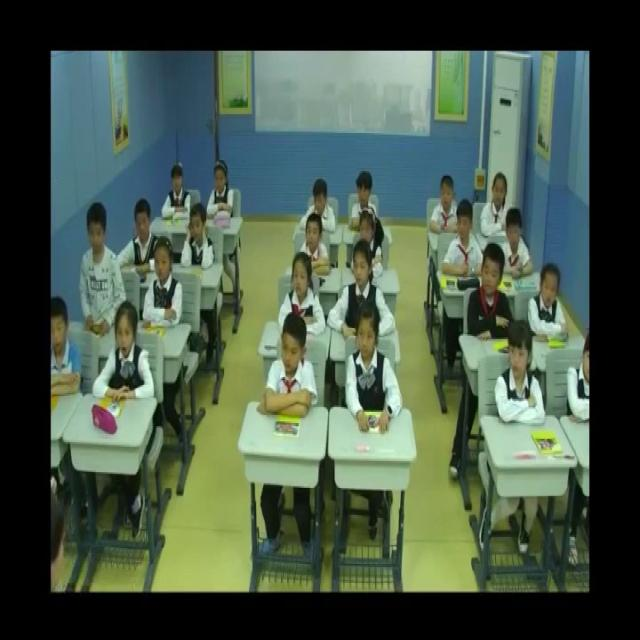focused: (344, 301, 404, 440), (328, 240, 398, 344), (91, 301, 156, 403), (258, 312, 317, 420), (79, 202, 125, 338), (495, 320, 549, 430), (466, 240, 517, 350), (278, 252, 330, 344), (441, 196, 487, 282), (528, 260, 571, 346), (144, 236, 182, 332), (49, 296, 81, 406), (122, 198, 158, 278), (501, 204, 534, 281), (298, 212, 334, 280), (299, 176, 336, 242), (177, 204, 214, 270), (354, 204, 386, 277), (430, 172, 464, 238), (206, 160, 238, 230), (162, 164, 194, 224), (350, 168, 380, 230), (482, 170, 511, 234)
